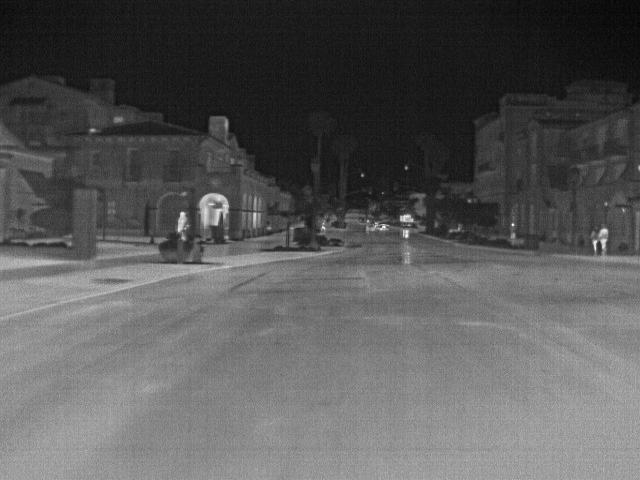person: (600, 222, 611, 254), (177, 210, 189, 236), (591, 227, 600, 254), (508, 220, 517, 240)
